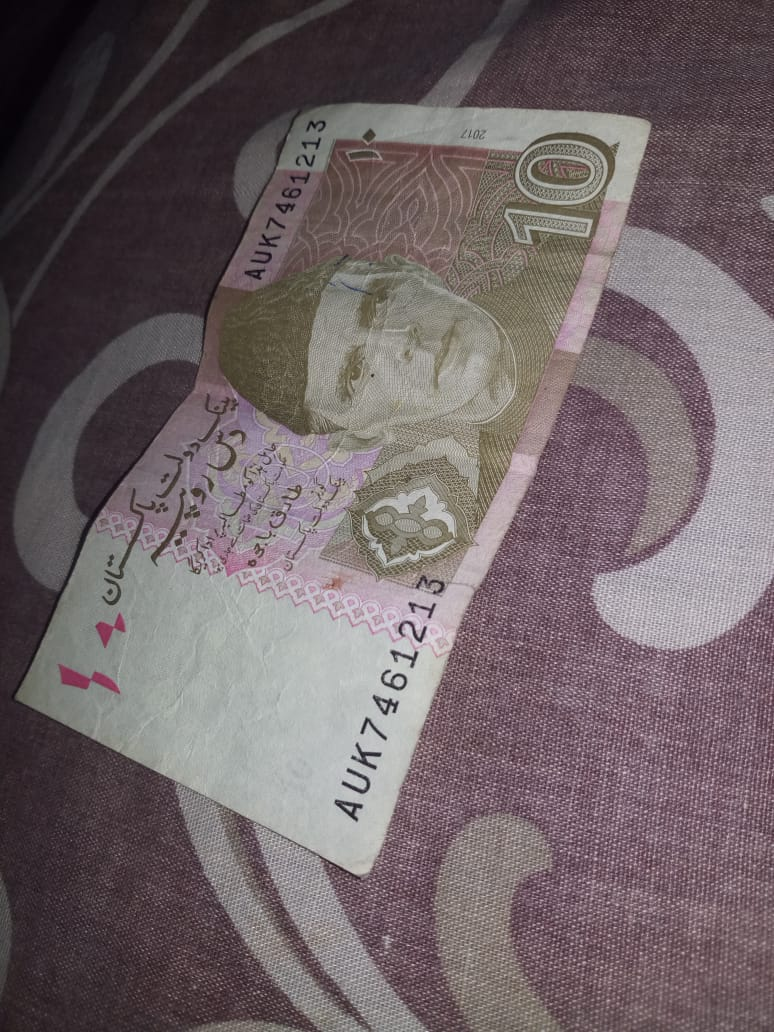10 rupee: (16, 101, 635, 887)
